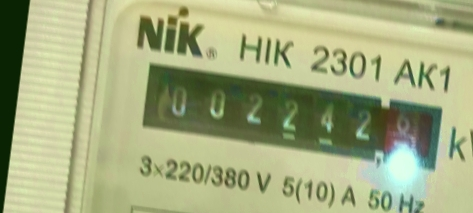0: (169, 85, 193, 120), (208, 87, 230, 122)
2: (245, 92, 268, 127), (281, 98, 303, 134), (355, 109, 376, 143)
4: (320, 101, 340, 135)
6: (396, 109, 415, 137)
screen: (131, 53, 457, 182)
